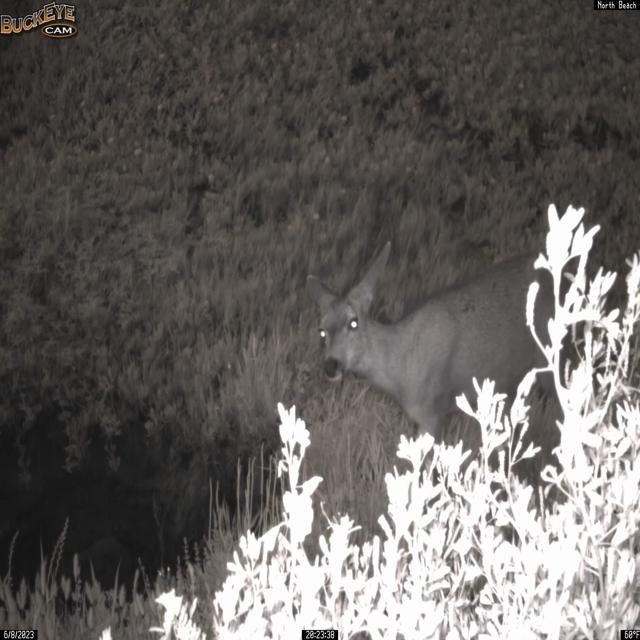deer: (305, 239, 584, 492)
